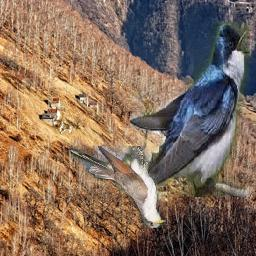Cuckoo: (70, 146, 167, 228)
Swallow: (130, 23, 250, 198)
